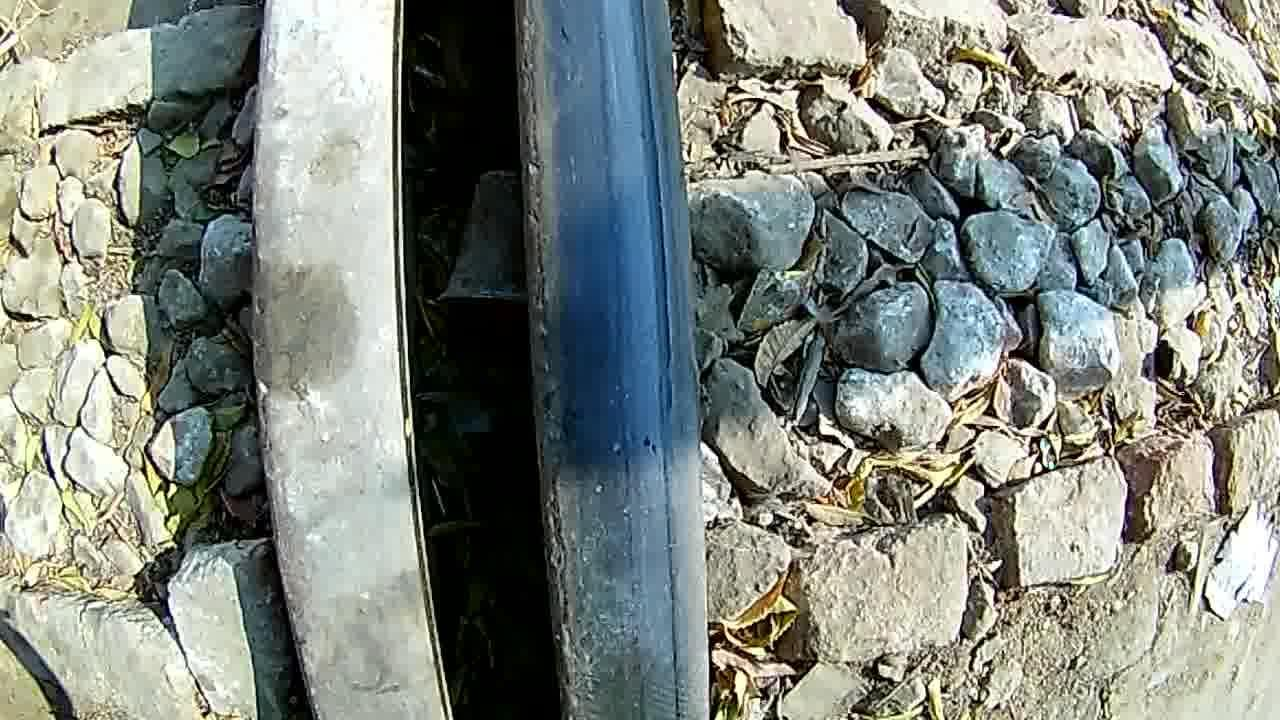crack: (508, 0, 712, 720)
